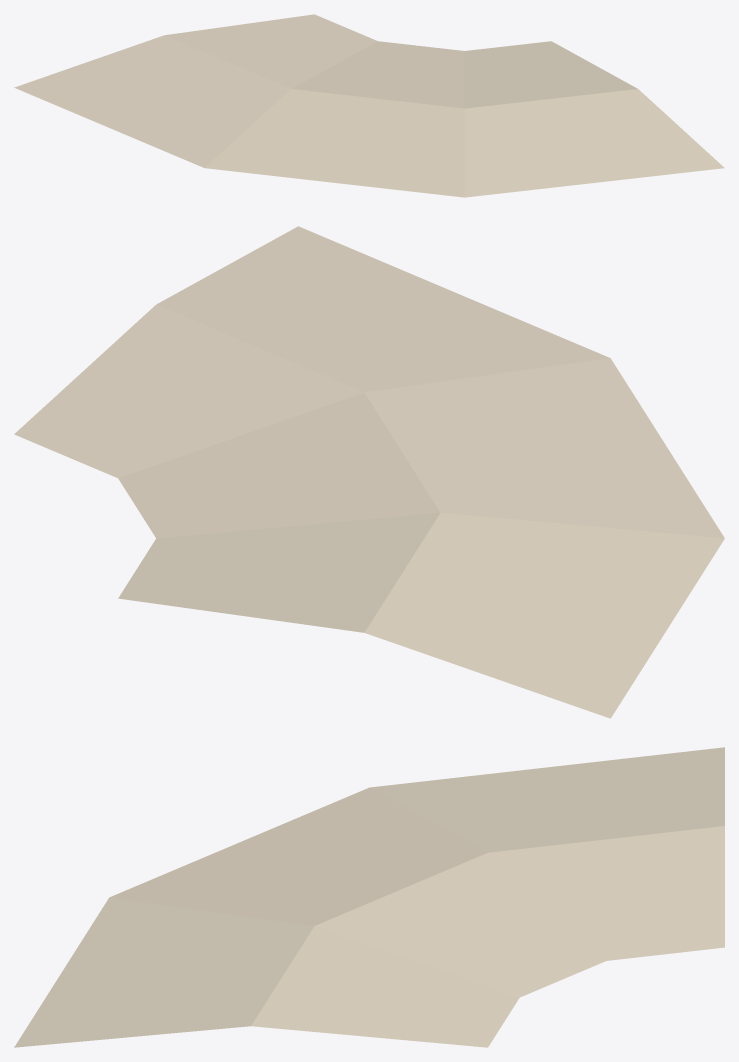
Rendered from Shared_Terrain_Dirt_Gathered_Corner.glb.
3 views of the same model, one above another, from view 1: azimuth 30°, elevation 25°; view 2: azimuth 150°, elevation 25°; view 3: azimuth 270°, elevation 25° (orthographic). The views are drawn at different scales.
Parts seen in each view (by area): view 1: Shared_Terrain_Dirt_Gathered_Corner; view 2: Shared_Terrain_Dirt_Gathered_Corner; view 3: Shared_Terrain_Dirt_Gathered_Corner.
Part boxes in pixels (bbox=[...]): Shared_Terrain_Dirt_Gathered_Corner: bbox=[14, 14, 724, 197]; Shared_Terrain_Dirt_Gathered_Corner: bbox=[14, 226, 724, 718]; Shared_Terrain_Dirt_Gathered_Corner: bbox=[14, 747, 724, 1047].
Size of the model in its own units: 1.5 by 0.05 by 1.5.
